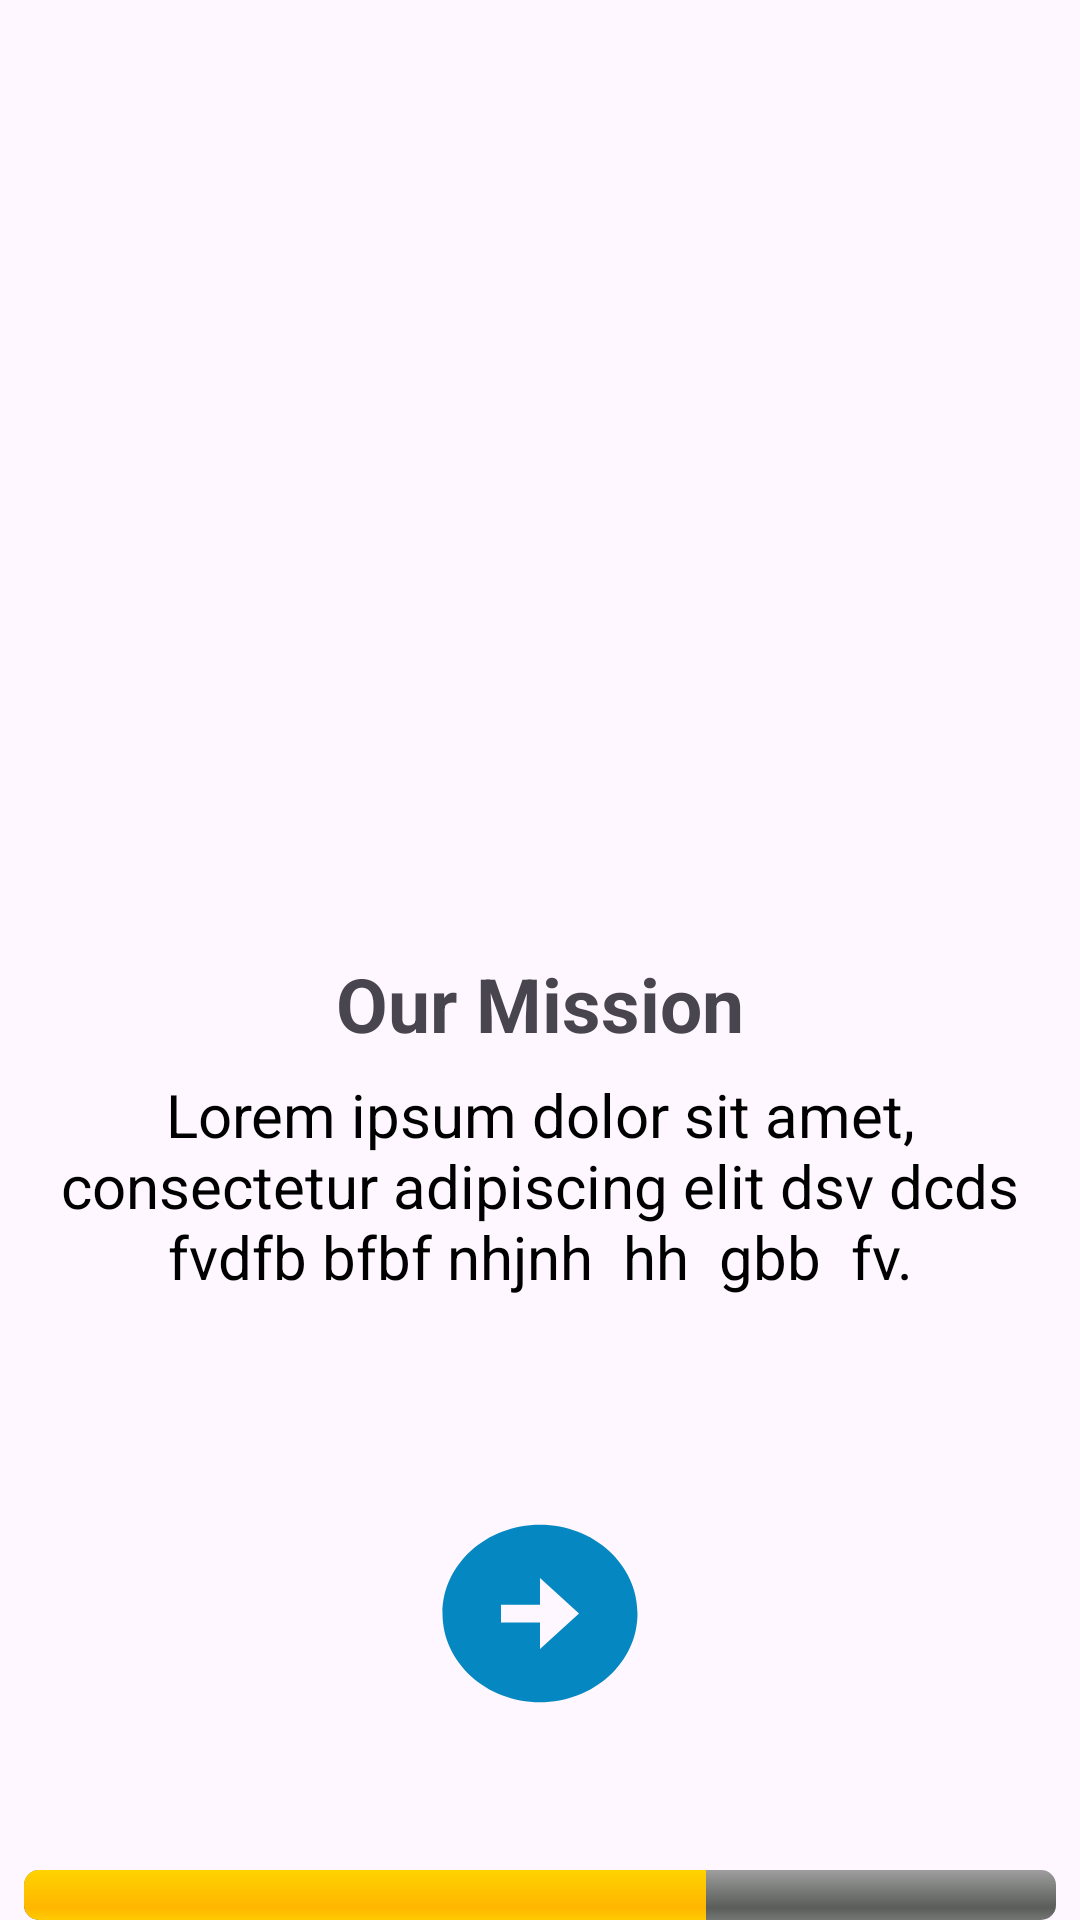

Icons on this 1080 x 1920 Android screen, each with the point to tap as point (x, y):
next button: point (540, 1613)
